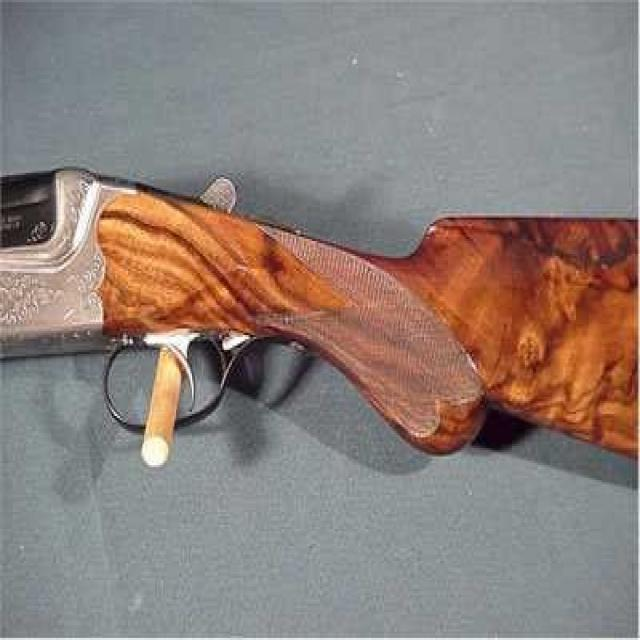weapon: (0, 39, 322, 468)
